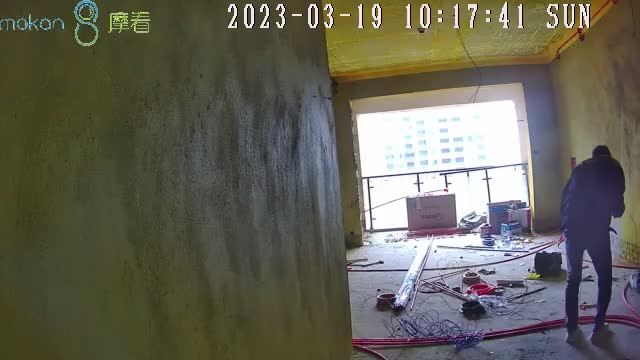people: (559, 146, 626, 342)
window: (355, 102, 529, 228)
